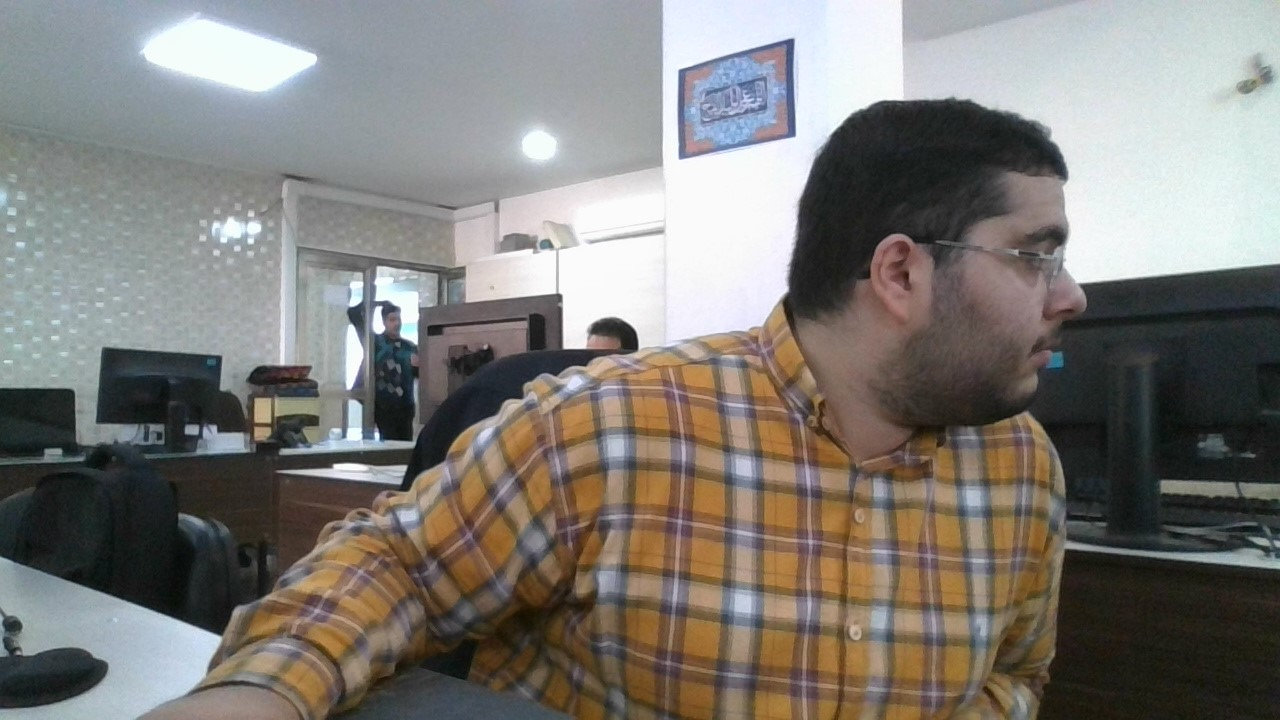NoMask: (847, 272, 1089, 425)
